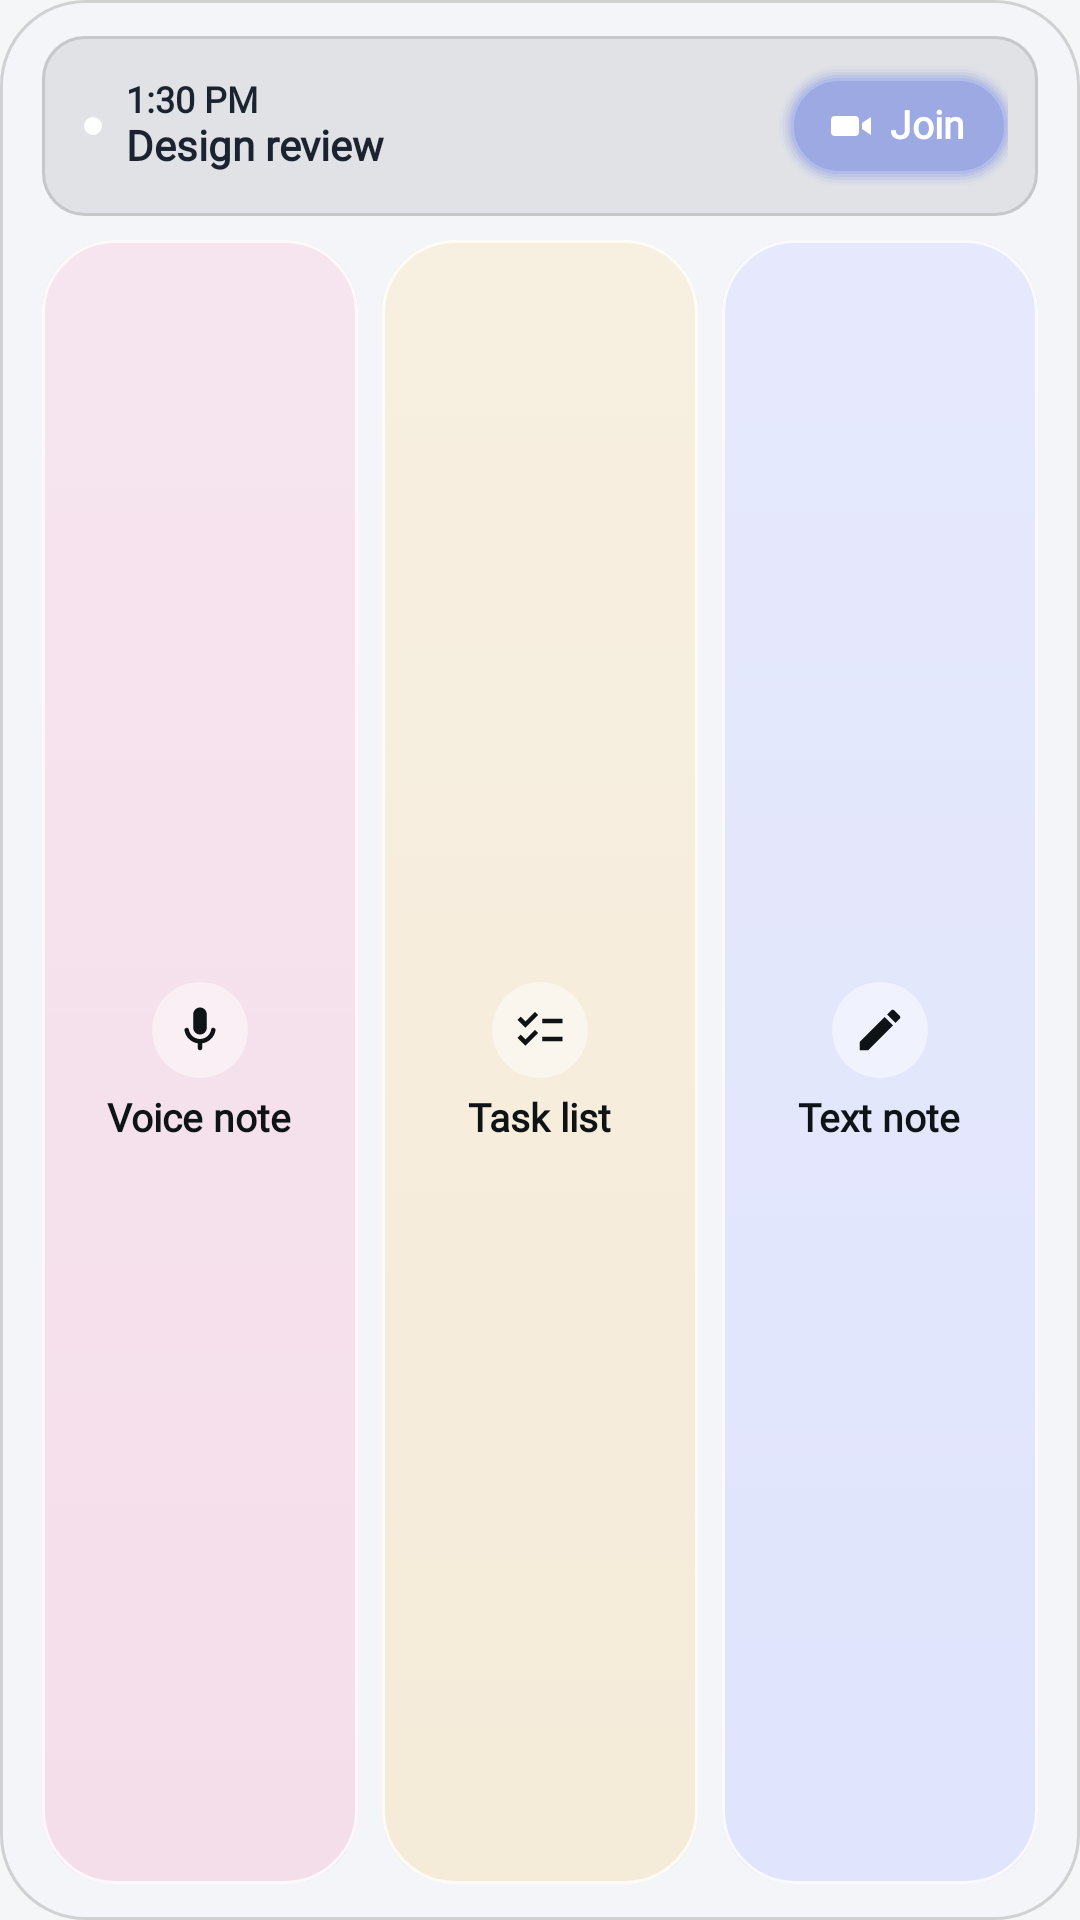

Screen size 1080px x 1920px. Icon name, then its center in pixels as [x,y]:
widget checklist: [540,1030]
widget mic: [200,1030]
widget pencil: [880,1030]
widget video: [851,126]
